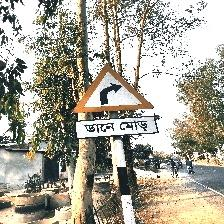Right-turn: (73, 63, 159, 139)
